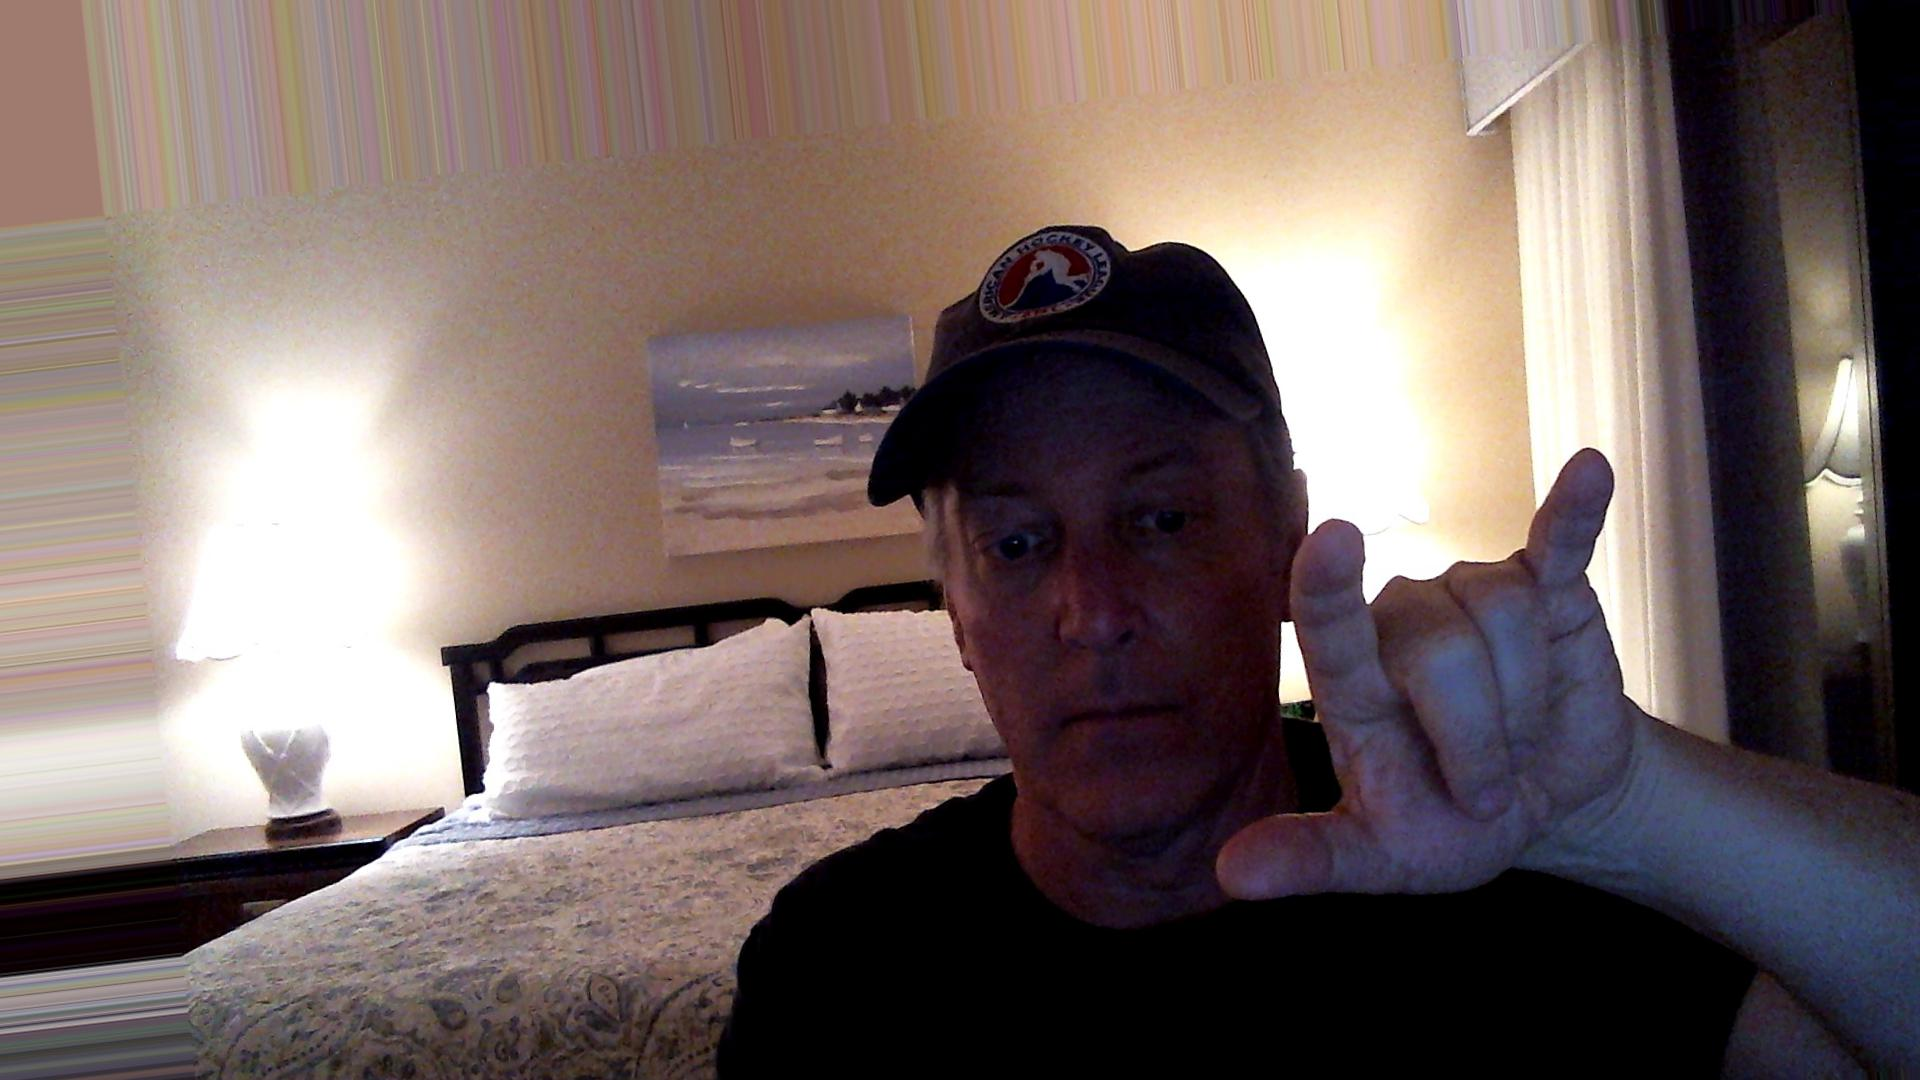I Love You: (1203, 433, 1672, 920)
